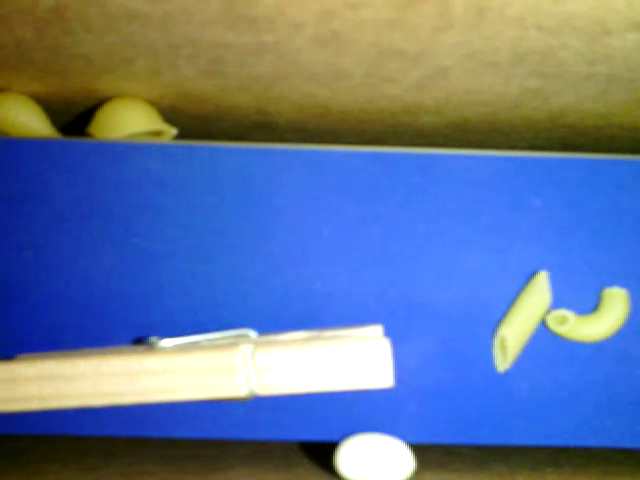elbow: (545, 285, 629, 347)
penne: (491, 268, 553, 371)
shell: (86, 93, 178, 144), (1, 85, 70, 139)
